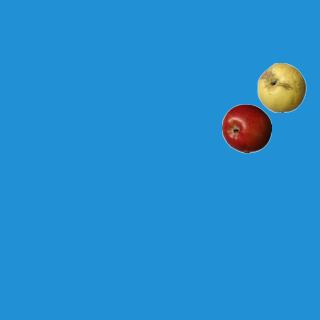Apple Braeburn: (221, 103, 271, 153)
Apple Golden 1: (256, 62, 306, 112)
